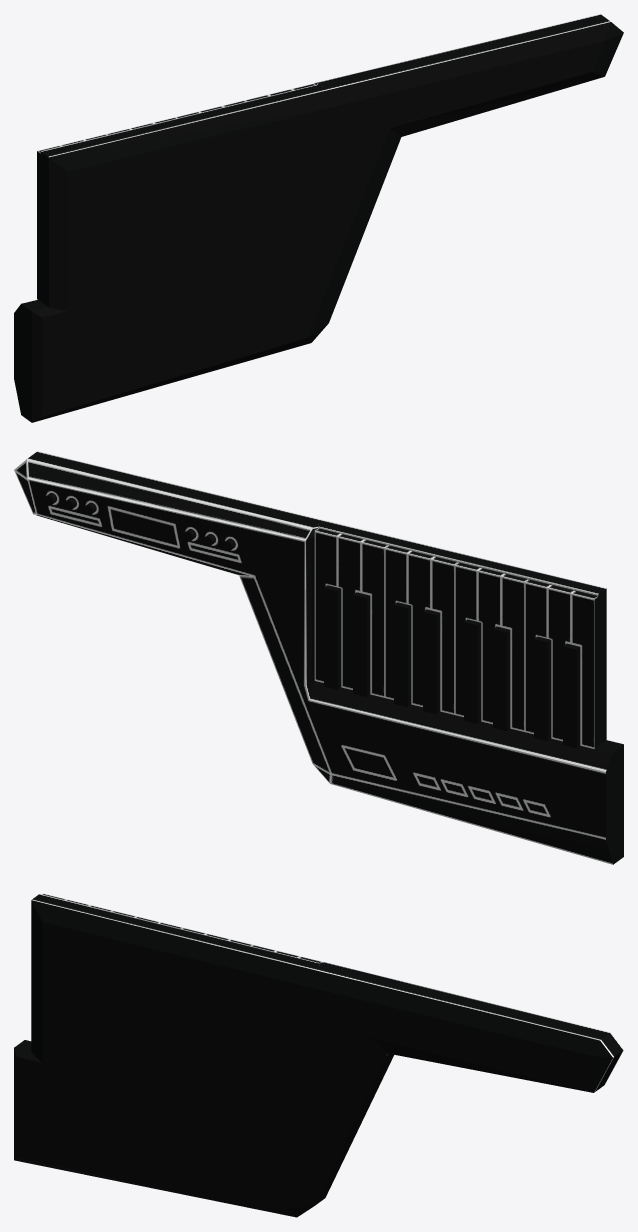
File: keyguitar.fbx
The picture shows the model from 3 angles, top to bottom: view 1: azimuth 30°, elevation 25°; view 2: azimuth 150°, elevation 25°; view 3: azimuth 330°, elevation 25°; orthographic projection.
Parts seen in each view (by area): view 1: Model; view 2: Model; view 3: Model.
Boxes of the visible parts, x1=… form: Model: x1=14, y1=14, x2=623, y2=422; Model: x1=14, y1=451, x2=623, y2=864; Model: x1=14, y1=893, x2=623, y2=1217.
Bounding box in the file's own units: 0.4764 × 0.201 × 0.035.
